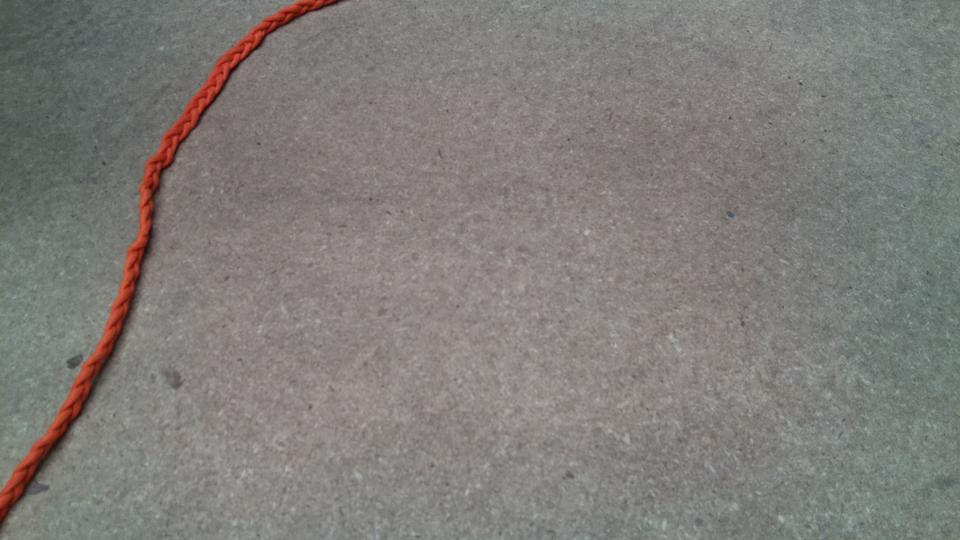rope: (1, 1, 320, 506)
